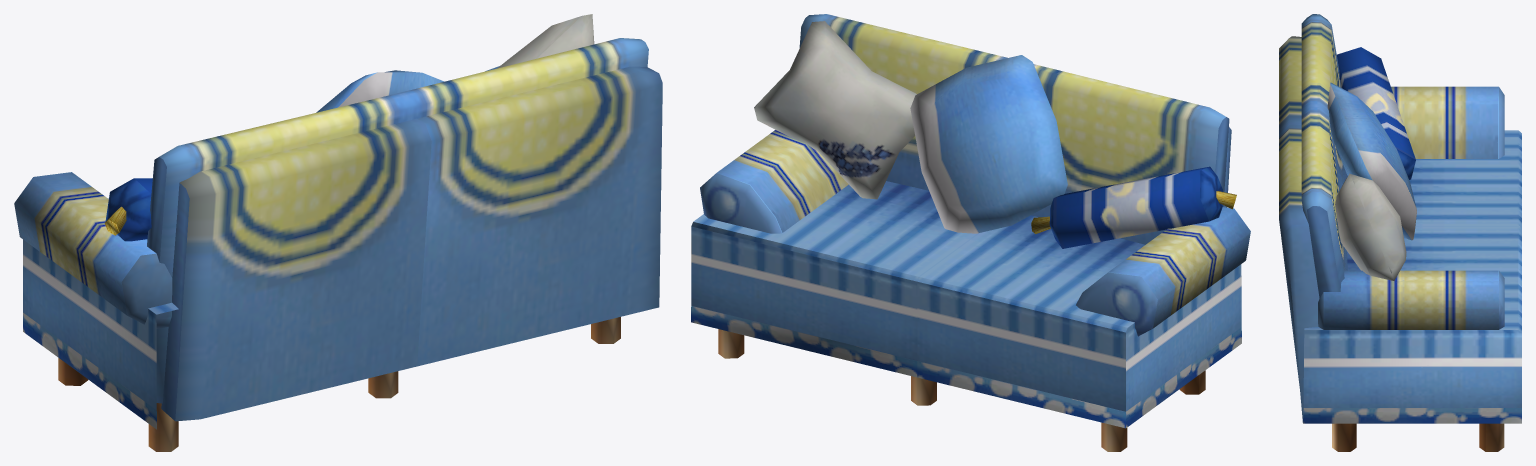
File: furni_0200512.FBX
3 renders of one model, left to right at view 1: azimuth 30°, elevation 25°; view 2: azimuth 150°, elevation 25°; view 3: azimuth 270°, elevation 25°, orthographic. The views are drawn at different scales.
Parts seen in each view (by area): view 1: furni_0200512; view 2: furni_0200512; view 3: furni_0200512.
Boxes of the visible parts, box(x1,y1,x2,y2) form: furni_0200512: box(14, 14, 662, 451); furni_0200512: box(691, 14, 1250, 451); furni_0200512: box(1279, 14, 1521, 451).
Bounding box in the file's own units: 159 × 94.22 × 76.9.
Materials: 1 (1 with a texture image).
